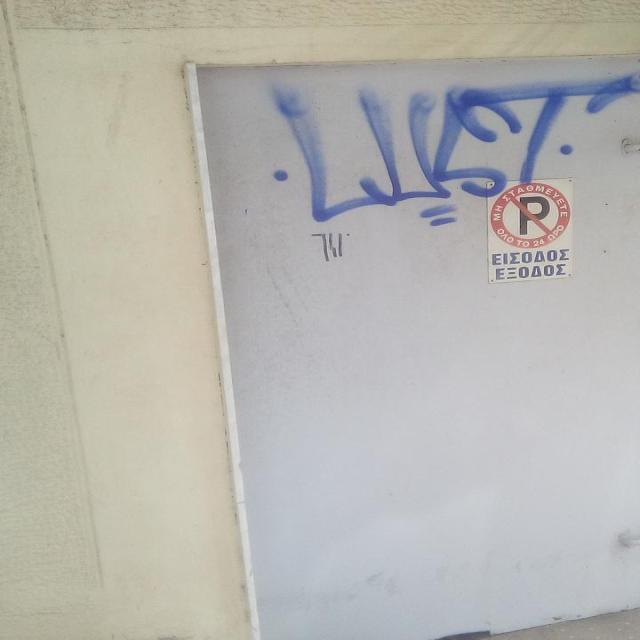nonspitting: (272, 69, 640, 228)
